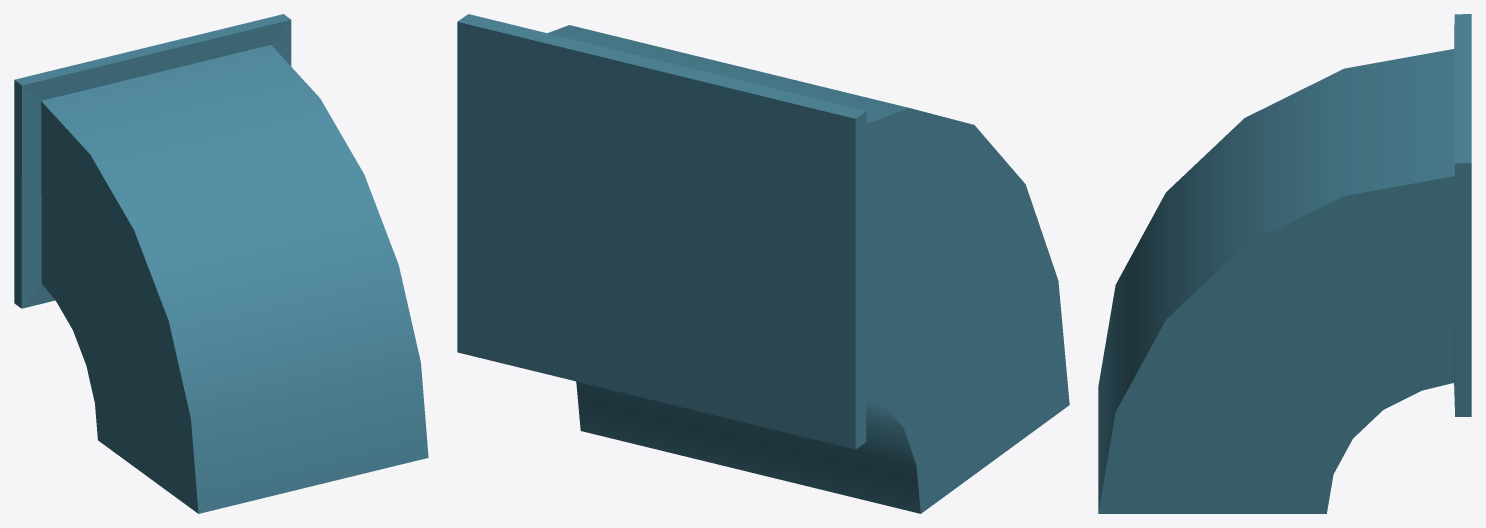
Rendered from vent corn.FBX.
3 views of the same model, side by side, from view 1: azimuth 30°, elevation 25°; view 2: azimuth 150°, elevation 25°; view 3: azimuth 270°, elevation 25° (orthographic). The views are drawn at different scales.
Parts seen in each view (by area): view 1: Object1109; view 2: Object1109; view 3: Object1109.
Boxes of the visible parts, x1,y1,x2,y2 form: Object1109: [14, 14, 428, 513]; Object1109: [457, 14, 1069, 513]; Object1109: [1098, 14, 1471, 513].
Size of the model in its own units: 0.8608 by 0.973 by 0.9101.
